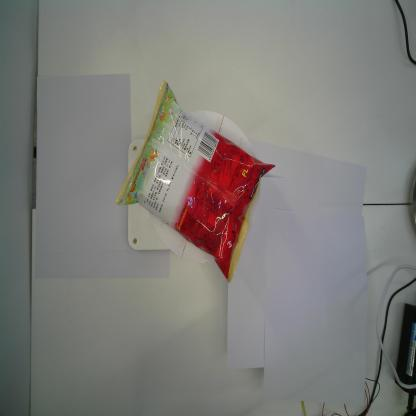Puffed Food: (116, 79, 277, 283)
